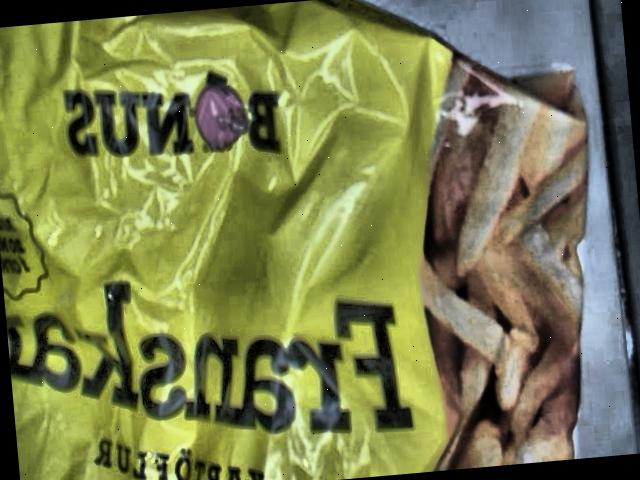Plastic: (0, 0, 590, 480)
